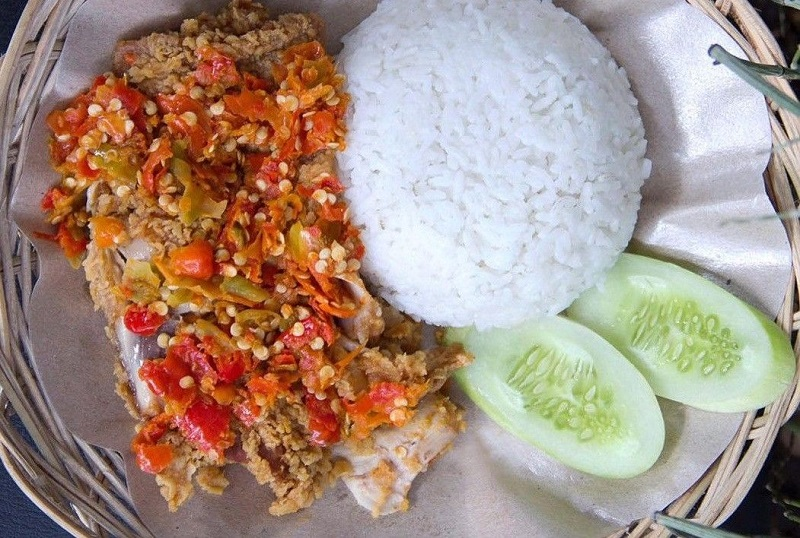ayam_geprek: (46, 4, 477, 501)
